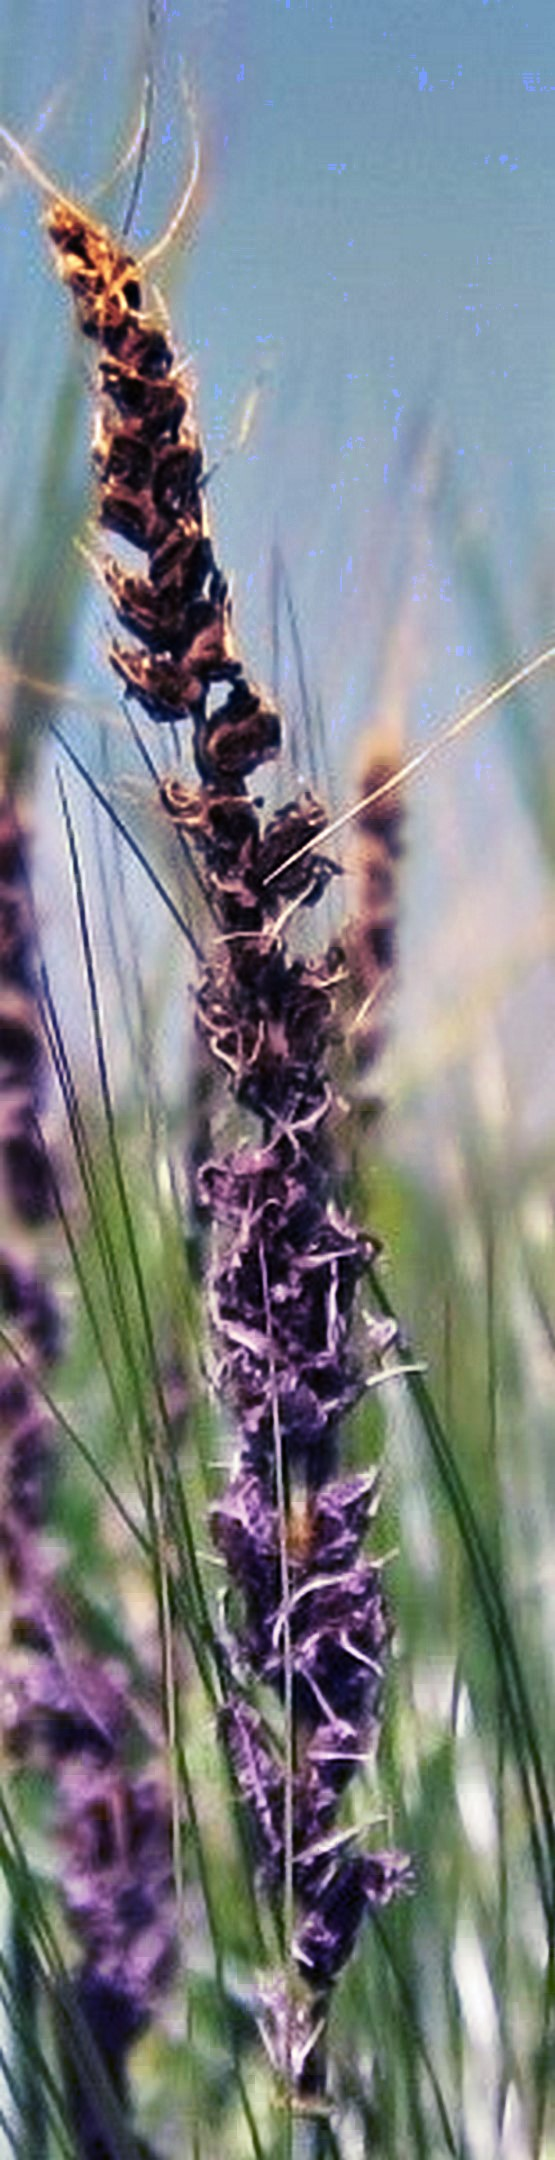Wheat Loose Smut: (39, 180, 446, 1875)
